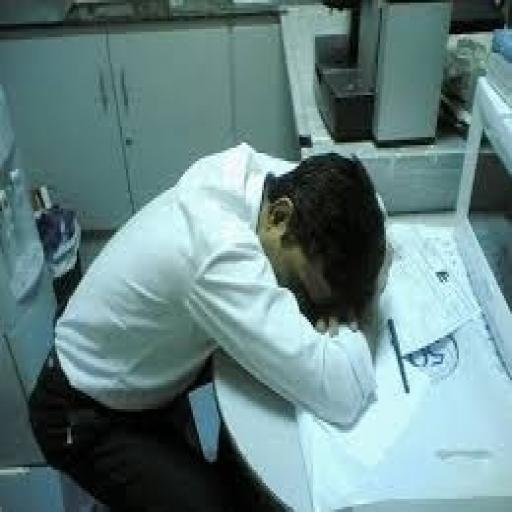sleeping: (51, 137, 390, 430)
